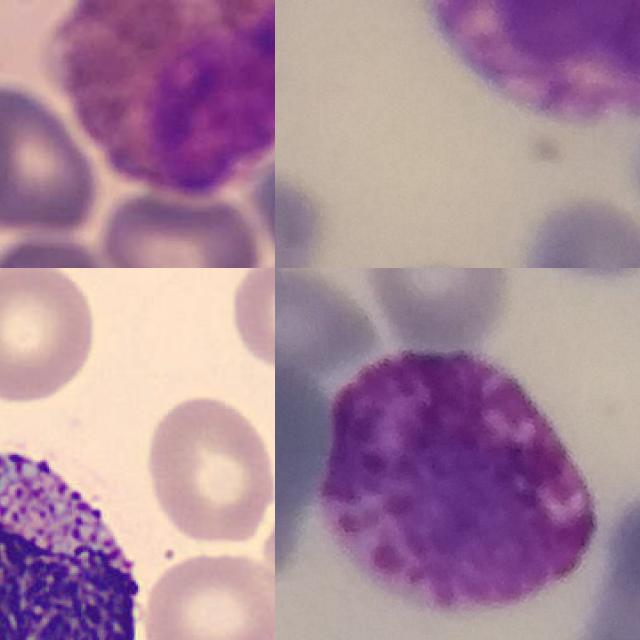Basophil: (318, 349, 600, 613), (0, 430, 154, 640), (416, 0, 640, 127)
Lymphocyte: (48, 0, 275, 198)
RBC: (141, 389, 275, 546), (0, 269, 100, 405), (137, 546, 275, 640), (224, 268, 275, 377), (255, 484, 275, 613)
